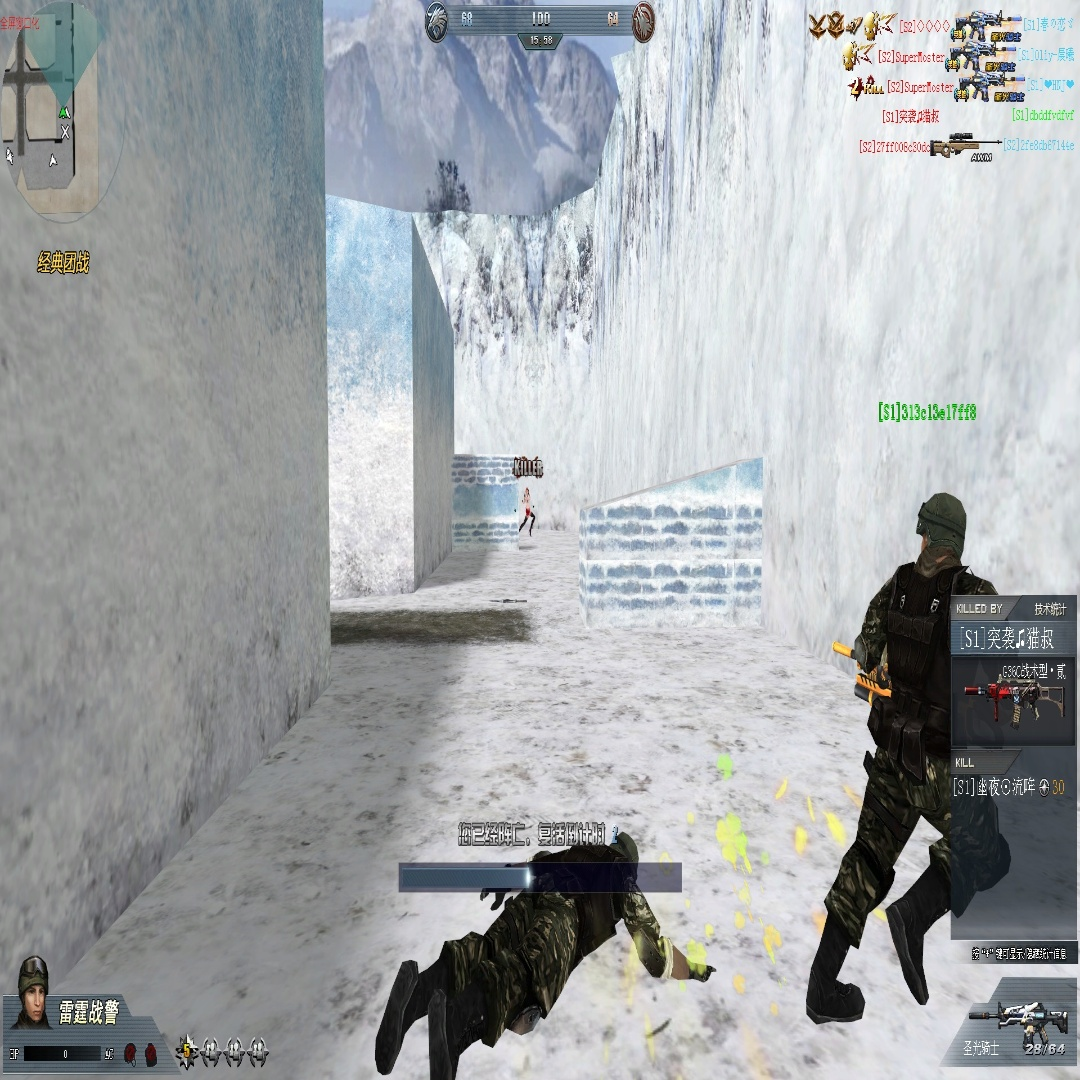ct: (805, 490, 1001, 1024)
t: (518, 486, 536, 538)
